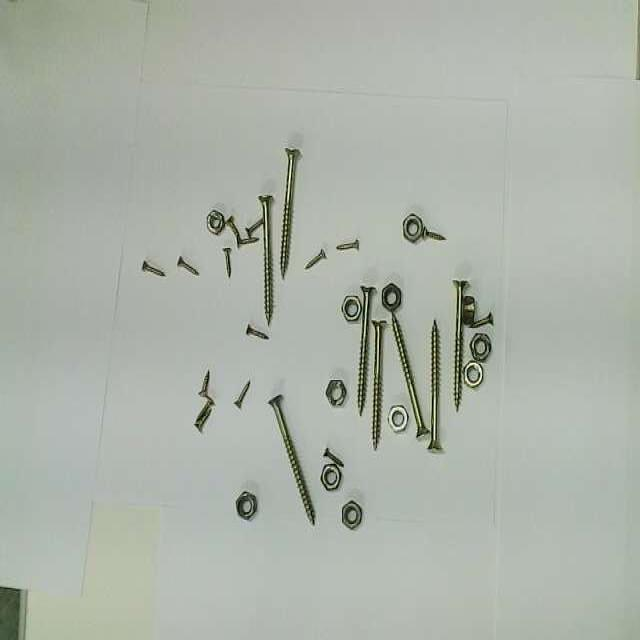Parafuso: (269, 396, 314, 523), (393, 312, 428, 437), (280, 148, 298, 277), (357, 287, 375, 413), (428, 320, 441, 451), (373, 320, 386, 449), (453, 280, 465, 409), (261, 195, 272, 323), (196, 396, 216, 421), (194, 409, 214, 432), (225, 216, 240, 245), (234, 381, 250, 408), (305, 249, 326, 268), (178, 256, 198, 275), (142, 260, 165, 275), (324, 448, 343, 465), (423, 228, 447, 241), (246, 217, 262, 235), (199, 371, 209, 399), (472, 313, 492, 327), (247, 325, 268, 337), (337, 239, 358, 249), (225, 247, 230, 276), (239, 237, 257, 245)
Porca: (403, 213, 445, 241), (470, 333, 491, 361), (463, 360, 483, 387), (236, 492, 256, 519), (382, 283, 401, 311), (342, 500, 361, 528), (326, 379, 346, 405), (388, 405, 407, 432), (342, 295, 361, 321), (321, 464, 341, 488), (207, 209, 225, 233), (462, 296, 475, 325)
